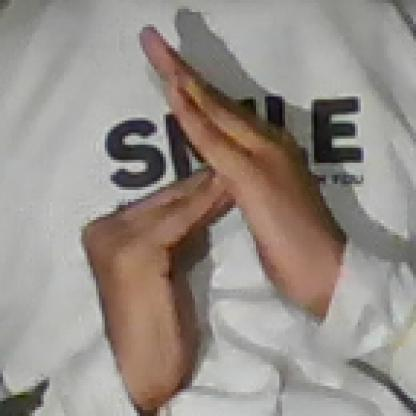Z: (81, 20, 314, 358)
